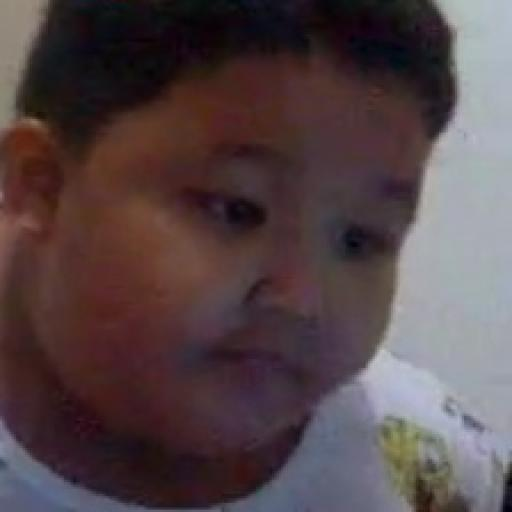Autism: (44, 8, 486, 467)
